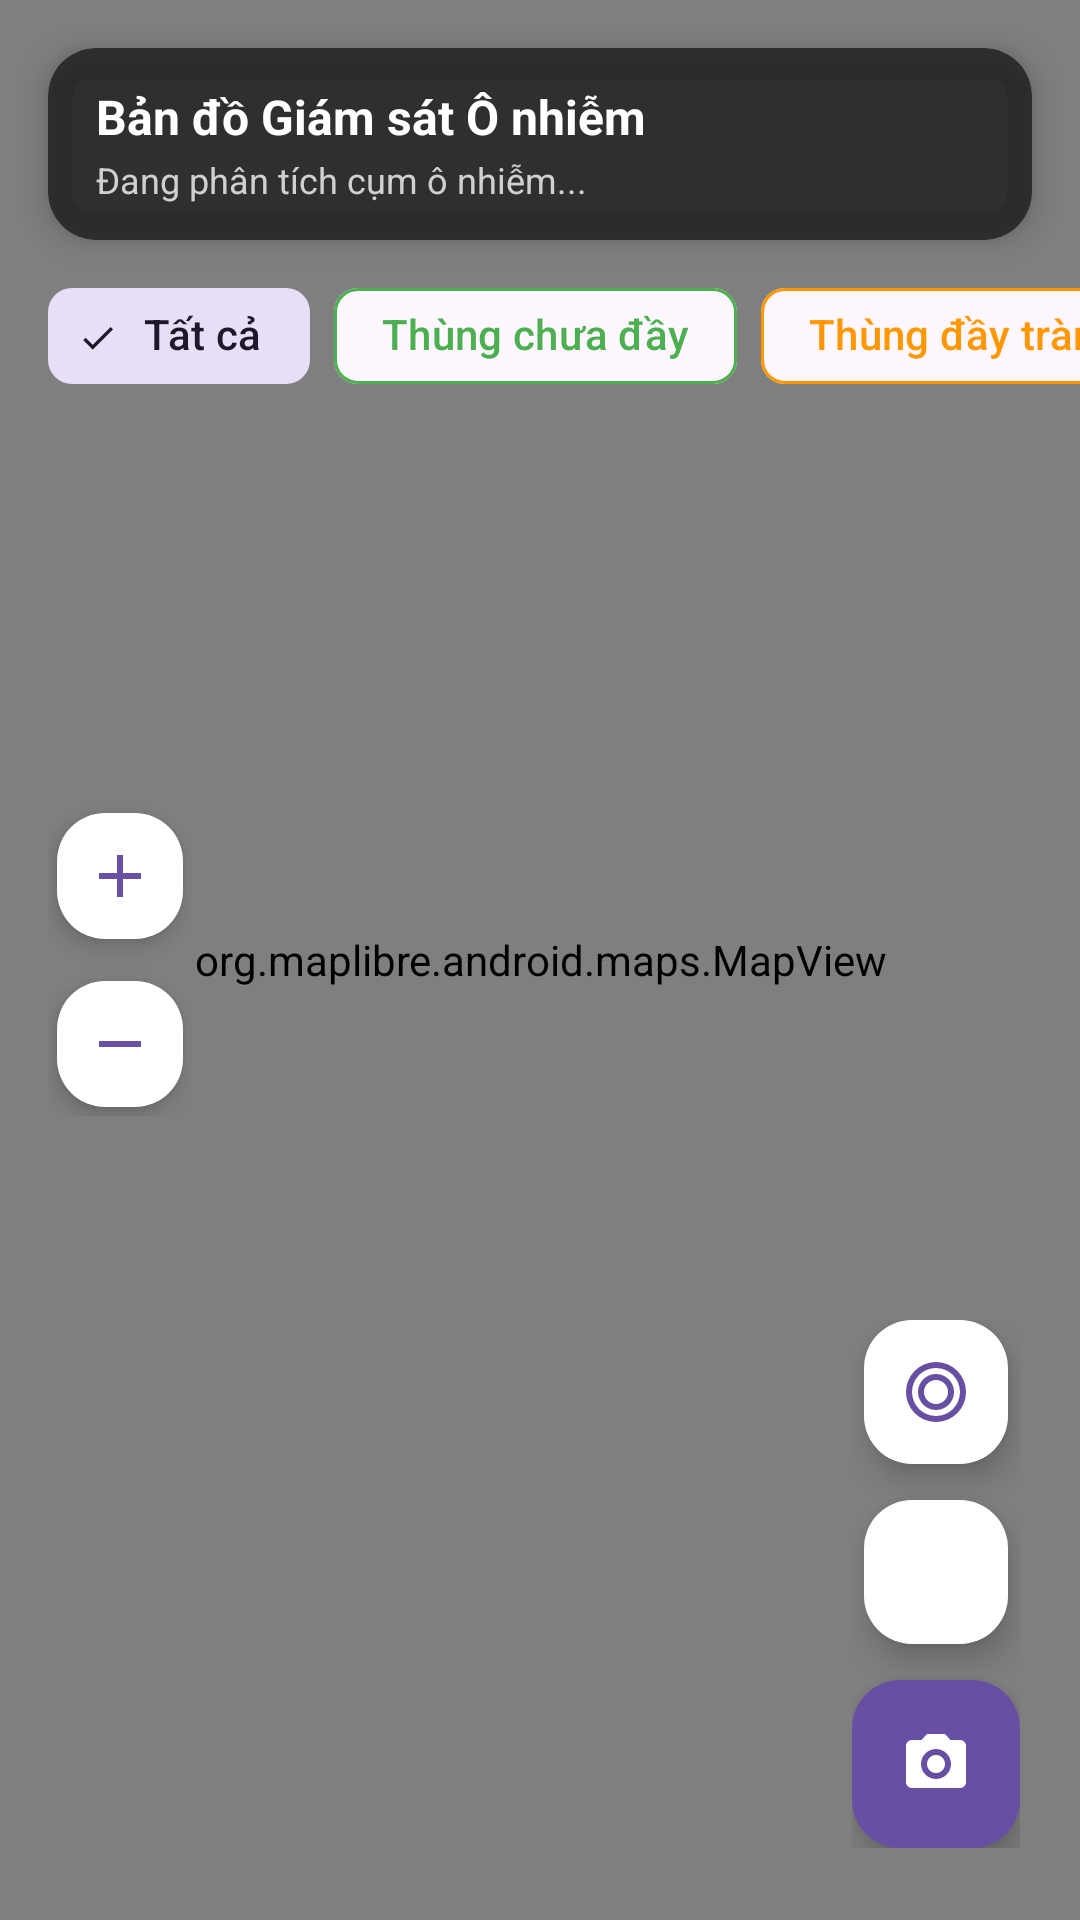

Where icons sit on this 1080px×1920px app screen, as (x1, y1, x2, y2):
Chụp ảnh rác mới: (852, 1680, 1020, 1848)
Phóng to bản đồ: (57, 813, 183, 939)
Thu nhỏ bản đồ: (57, 981, 183, 1107)
